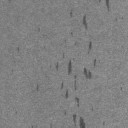red iron: (61, 59, 98, 108), (73, 114, 86, 128), (82, 16, 88, 29), (105, 0, 110, 11), (89, 41, 92, 50), (56, 62, 59, 69), (36, 84, 39, 91)
